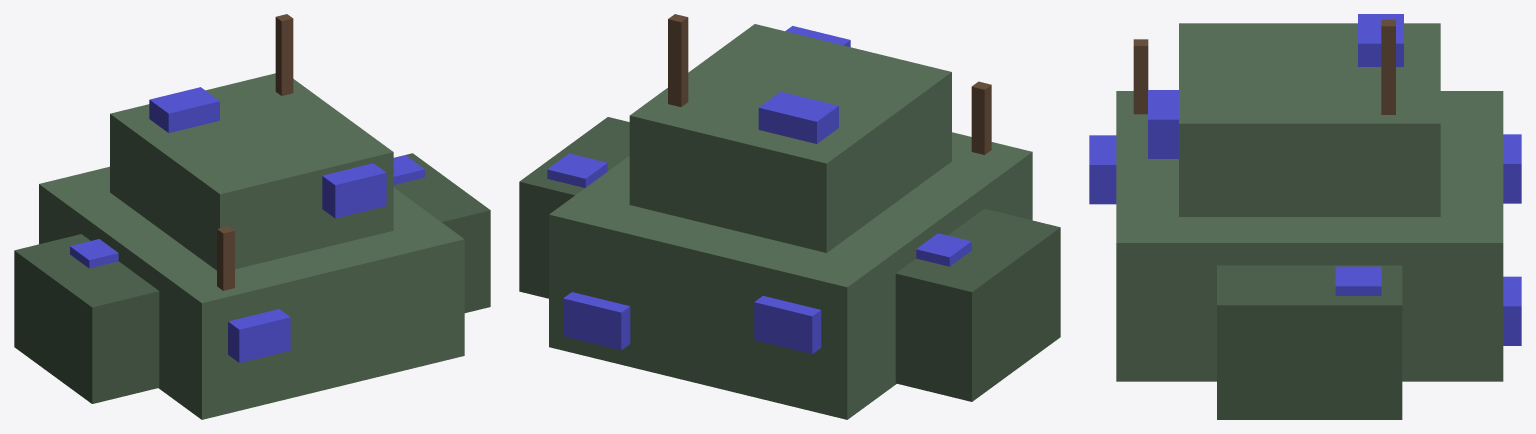
The model's file is shrubbery-3rd.fbx.
3 renders of one model, left to right at view 1: azimuth 30°, elevation 25°; view 2: azimuth 150°, elevation 25°; view 3: azimuth 270°, elevation 25°, orthographic. The views are drawn at different scales.
Parts seen in each view (by area): view 1: pCube51; view 2: pCube51; view 3: pCube51.
Boxes of the visible parts, box(x1,y1,x2,y2) form: pCube51: box(14, 14, 490, 419); pCube51: box(519, 14, 1060, 419); pCube51: box(1089, 14, 1521, 419).
Size of the model in its own units: 2.64 by 1.71 by 2.09.
